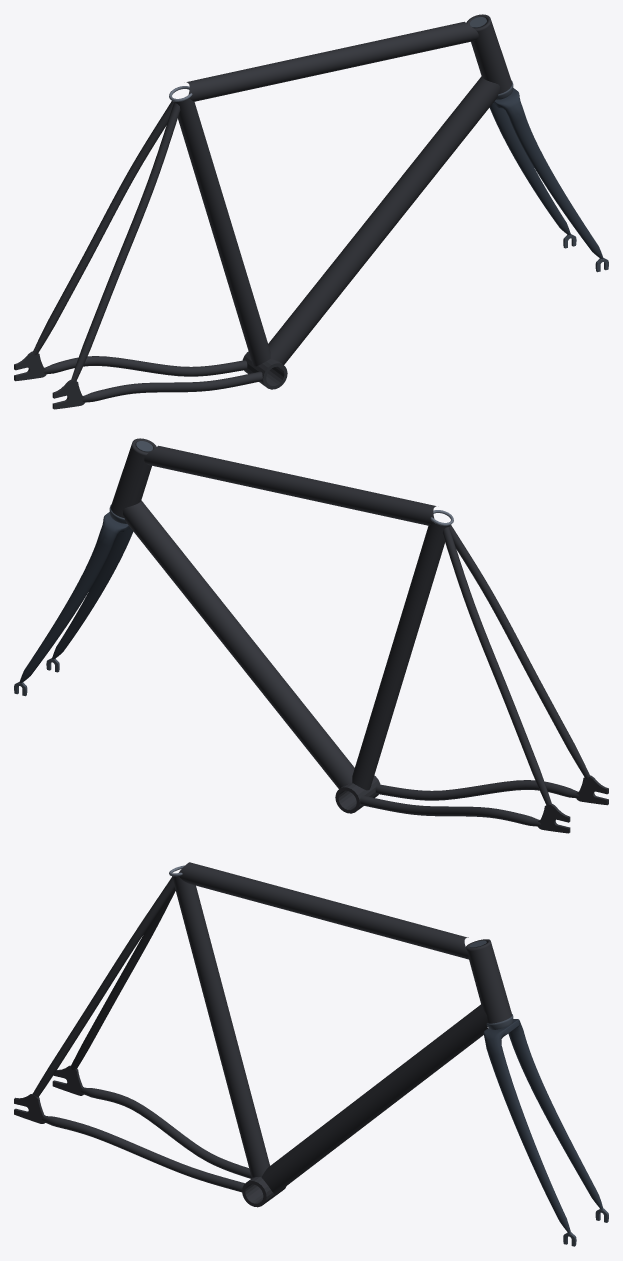
The model's file is state-black-label-v3-55.glb.
3 renders of one model, top to bottom at view 1: azimuth 30°, elevation 25°; view 2: azimuth 150°, elevation 25°; view 3: azimuth 330°, elevation 25°, orthographic.
Parts seen in each view (by area): view 1: paint_down, paint_top, paint_seat, paint_seatstay_1, paint_seatstay_-1, fork_blade_1, paint_chainstay_-1, paint_chainstay_1, fork_blade_-1, paint_head, paint_bottom_bracket, rear_dropout_1 (+1 smaller); view 2: paint_down, paint_top, paint_seat, paint_seatstay_-1, paint_seatstay_1, fork_blade_-1, paint_chainstay_1, paint_chainstay_-1, fork_blade_1, paint_head, paint_bottom_bracket, rear_dropout_-1 (+1 smaller); view 3: paint_down, paint_seat, paint_top, fork_blade_1, fork_blade_-1, paint_seatstay_1, paint_head, paint_chainstay_1, paint_chainstay_-1, paint_seatstay_-1, paint_bottom_bracket, rear_dropout_1 (+2 smaller).
Boxes of the visible parts, x1,y1,x2,y2 form: paint_down: (268, 76, 499, 364); paint_top: (186, 21, 478, 101); paint_seat: (173, 98, 270, 366); paint_seatstay_1: (71, 103, 180, 380); paint_seatstay_-1: (33, 101, 173, 355); fork_blade_1: (508, 110, 603, 259); paint_chainstay_-1: (43, 356, 247, 376); paint_chainstay_1: (82, 371, 262, 402); fork_blade_-1: (489, 104, 570, 235); paint_head: (466, 14, 512, 93); paint_bottom_bracket: (242, 351, 287, 389); rear_dropout_1: (52, 380, 85, 409); paint_down: (122, 500, 354, 788); paint_top: (144, 445, 436, 525); paint_seat: (352, 522, 449, 790); paint_seatstay_-1: (442, 527, 551, 804); paint_seatstay_1: (449, 525, 589, 779); fork_blade_-1: (19, 534, 114, 683); paint_chainstay_1: (375, 780, 579, 800); paint_chainstay_-1: (360, 795, 540, 826); fork_blade_1: (52, 528, 133, 659); paint_head: (110, 438, 156, 517); paint_bottom_bracket: (335, 775, 380, 813); rear_dropout_-1: (538, 804, 570, 833); paint_down: (261, 1004, 487, 1194); paint_seat: (172, 876, 269, 1177); paint_top: (179, 862, 468, 959); fork_blade_1: (486, 1046, 570, 1233); fork_blade_-1: (508, 1030, 603, 1209); paint_seatstay_1: (32, 877, 174, 1097); paint_head: (466, 939, 512, 1023); paint_chainstay_1: (42, 1115, 244, 1192); paint_chainstay_-1: (80, 1087, 251, 1178); paint_seatstay_-1: (71, 888, 175, 1069); paint_bottom_bracket: (242, 1177, 286, 1207); rear_dropout_1: (14, 1093, 45, 1123).
Size of the model in its own units: 1.04 by 0.567 by 0.1438.
